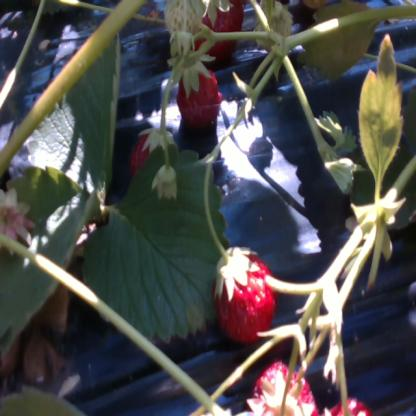ripe: (217, 252, 280, 338), (192, 0, 240, 57), (132, 128, 179, 186), (262, 372, 314, 416), (180, 69, 221, 123), (329, 397, 370, 416)
